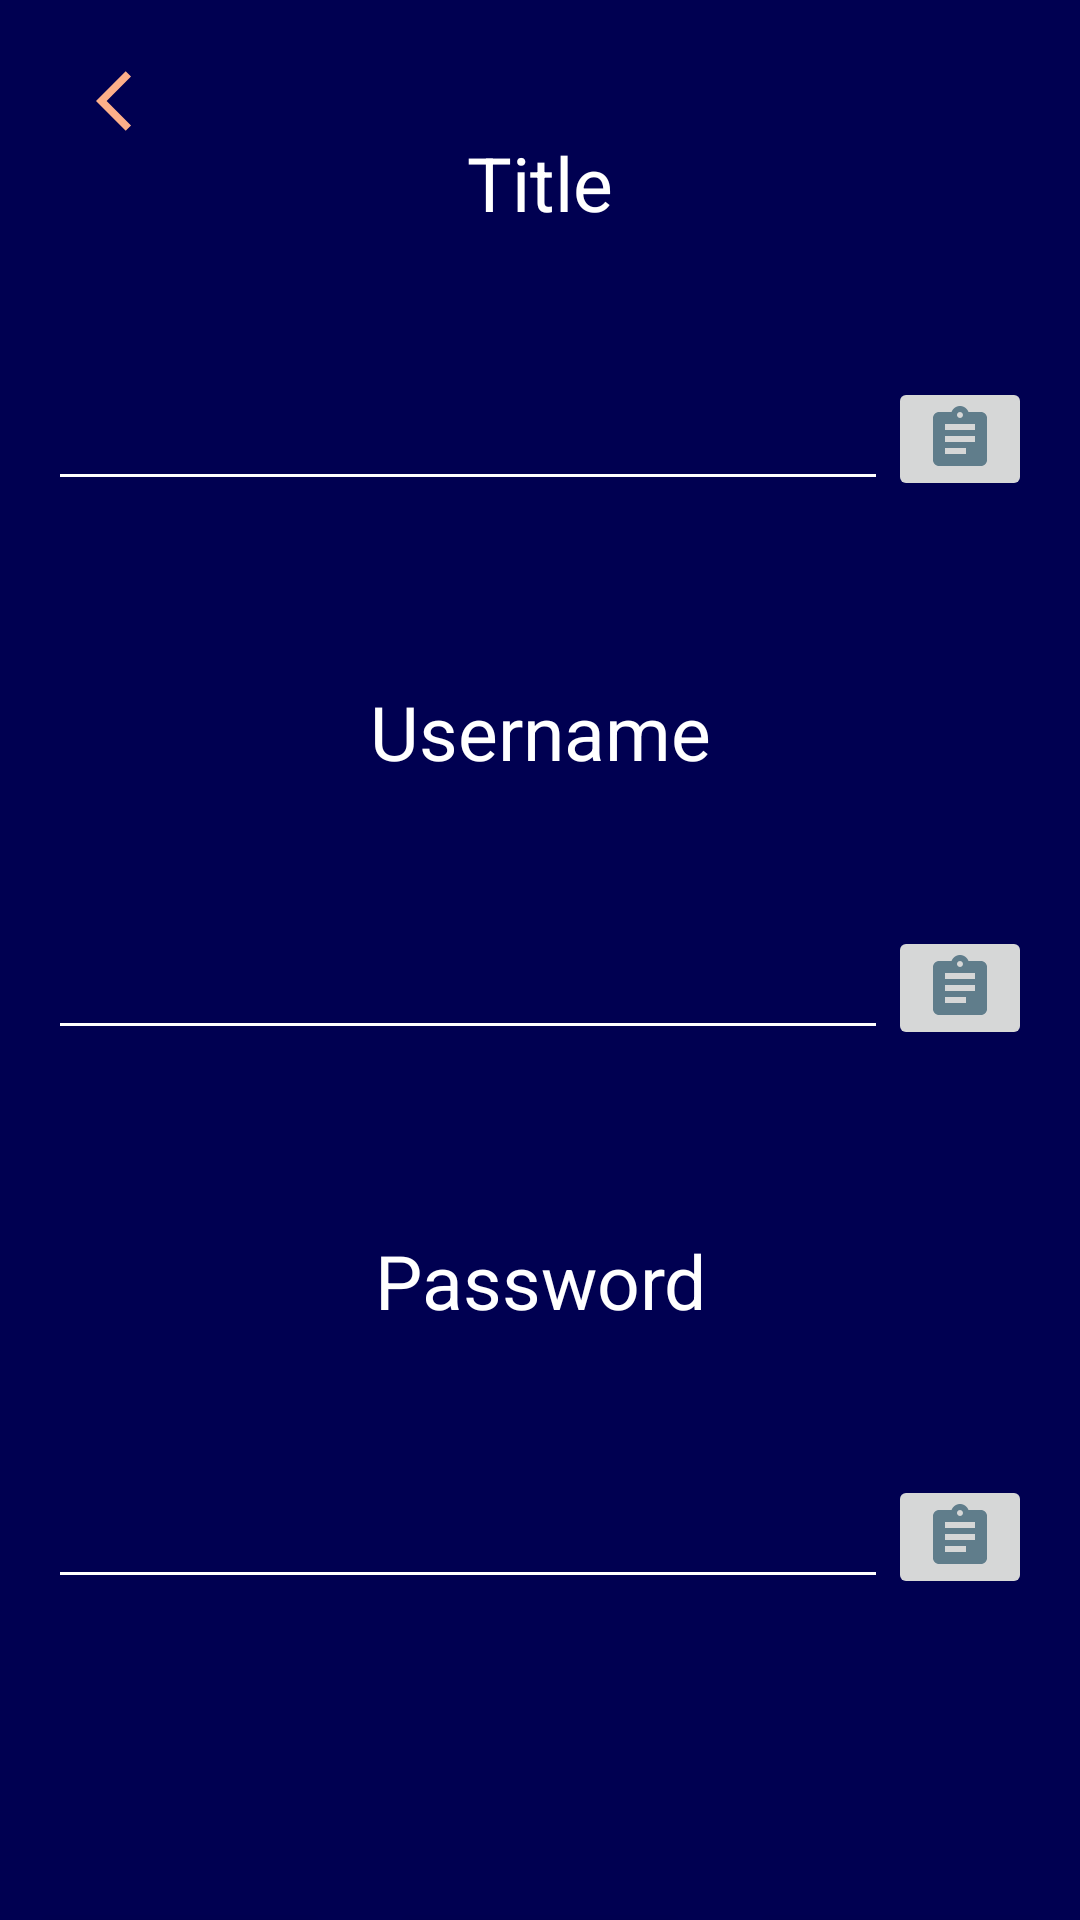

Icons on this 1080×1920 Android screen, each with the point to tap as (x=x, y=y):
arrow back: (x=113, y=101)
assignment: (x=960, y=439), (x=960, y=988), (x=960, y=1537)
